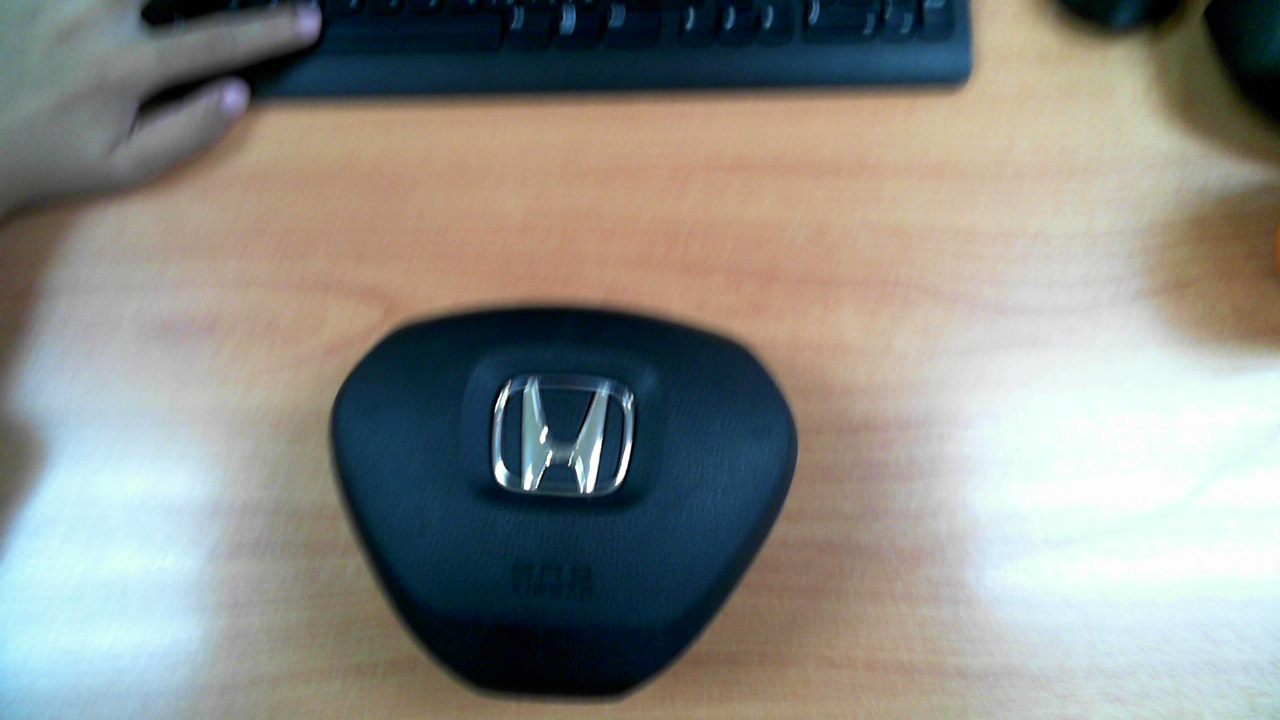Airbag: (329, 305, 799, 705)
Honda: (491, 374, 634, 498)
